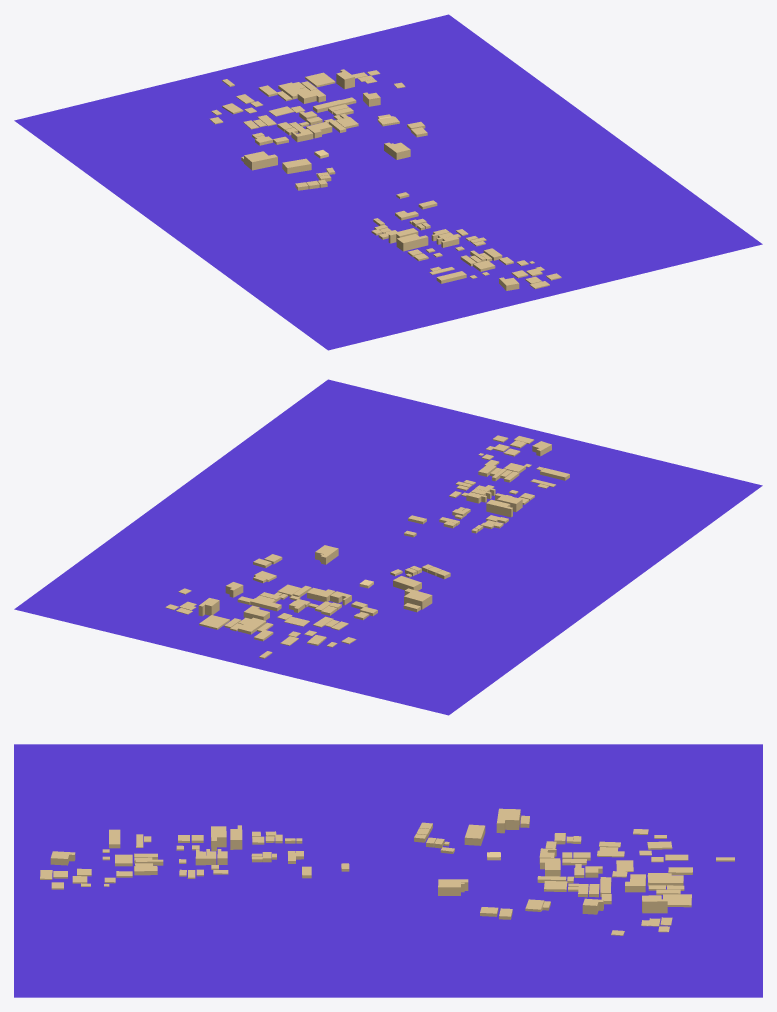
Rendered from sankalapuram.glb.
3 renders of one model, top to bottom at view 1: azimuth 30°, elevation 25°; view 2: azimuth 150°, elevation 25°; view 3: azimuth 270°, elevation 25°, orthographic. The views are drawn at different scales.
Visible parts, largest first — view 1: Plane; view 2: Plane; view 3: Plane, Cube, Cube.044, Cube.076.
Boxes of the visible parts, x1,y1,x2,y2 form: Plane: [14, 14, 762, 350]; Plane: [14, 379, 762, 715]; Plane: [14, 744, 762, 997]; Cube: [496, 808, 520, 833]; Cube.044: [438, 879, 468, 895]; Cube.076: [642, 895, 667, 913].
Bounding box in the file's own units: 20 × 0.8685 × 25.02.
